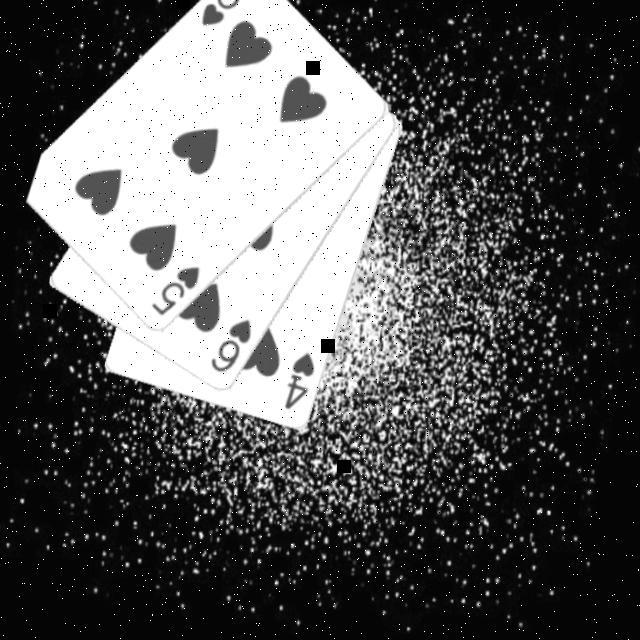4H: (282, 350, 320, 416)
5H: (147, 262, 203, 323), (197, 0, 252, 34)
6H: (207, 315, 256, 380)
